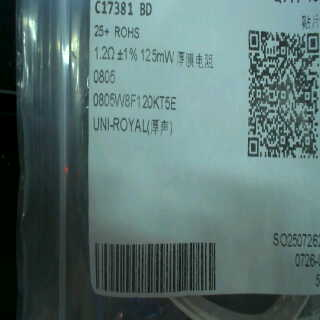1.2R: (91, 42, 118, 92)
